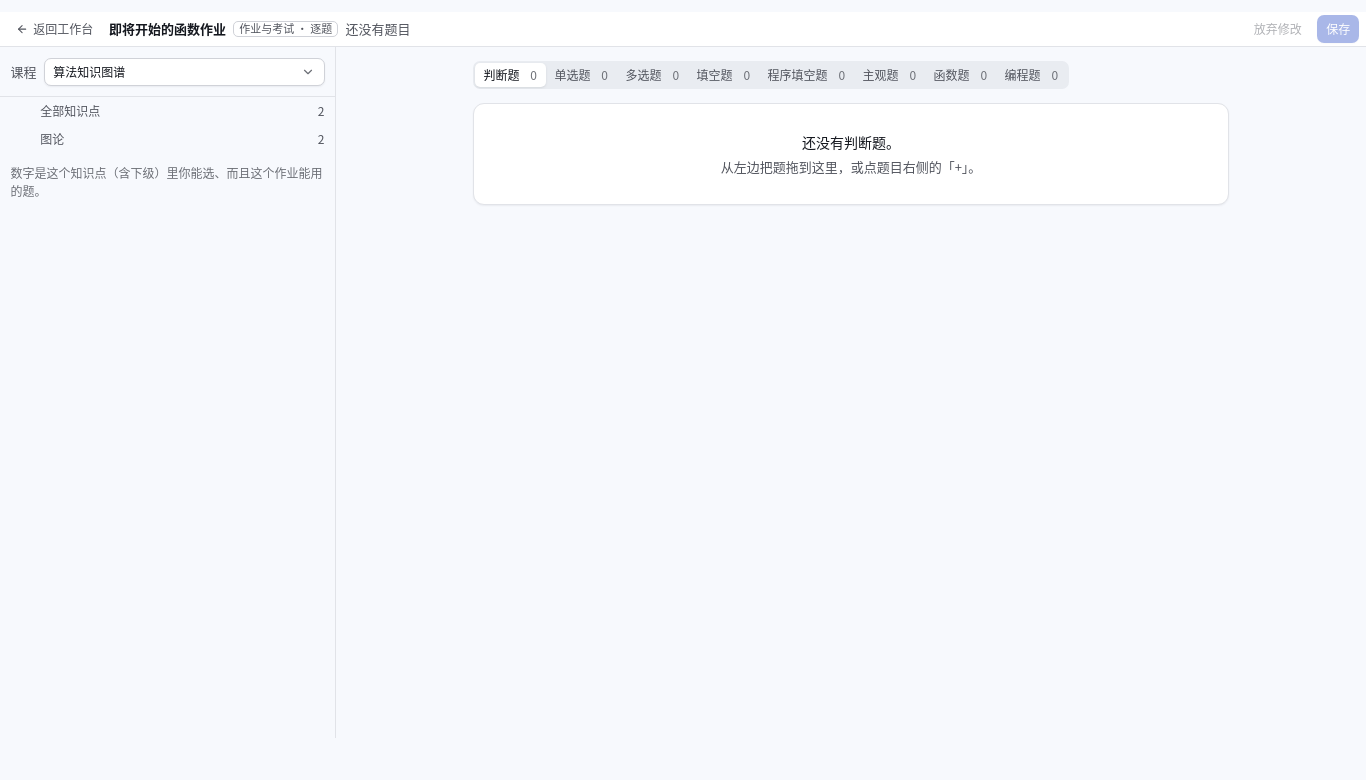
Test: teach compose page › reads the legacy snapshot before posting and clears the change count
Click the button "图论": (52, 138) [32, 125, 314, 153]
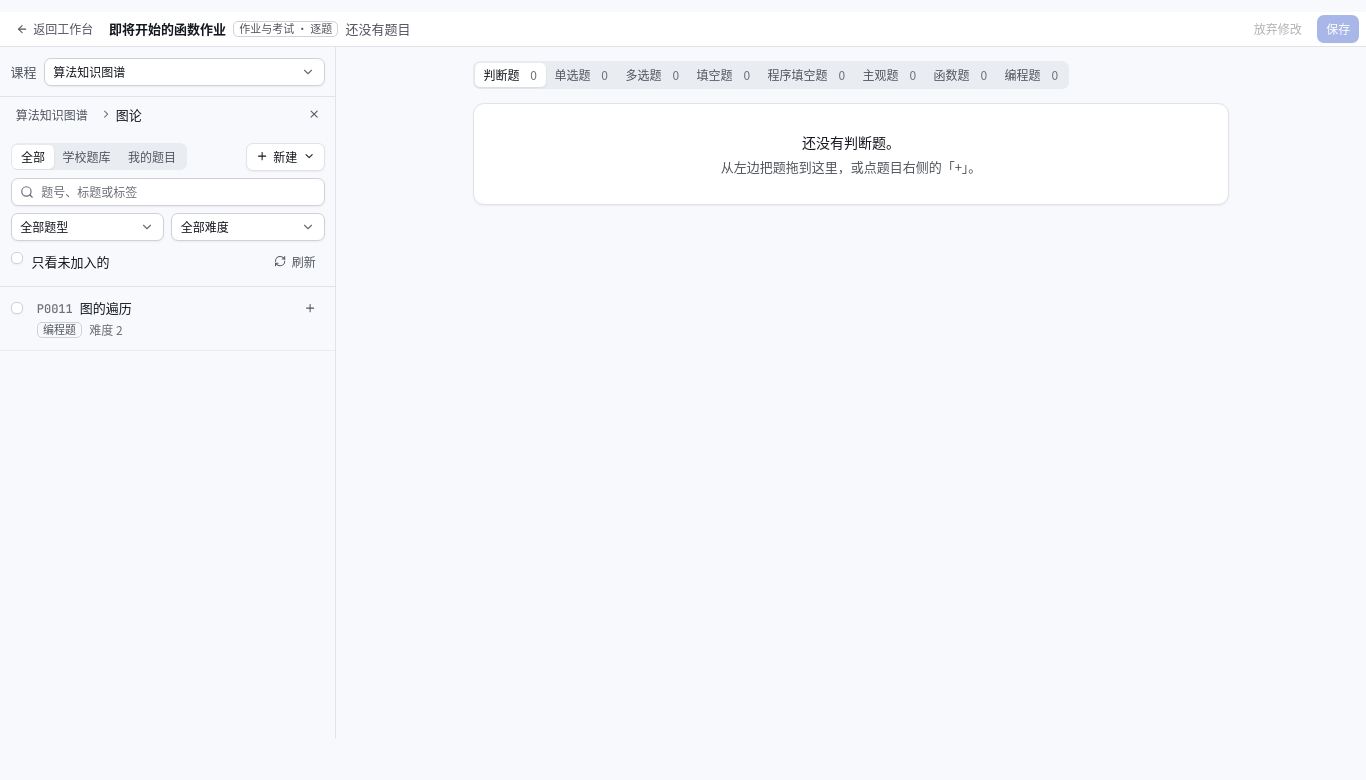
Click the button named "加入 P0011": (310, 308) [296, 294, 324, 322]
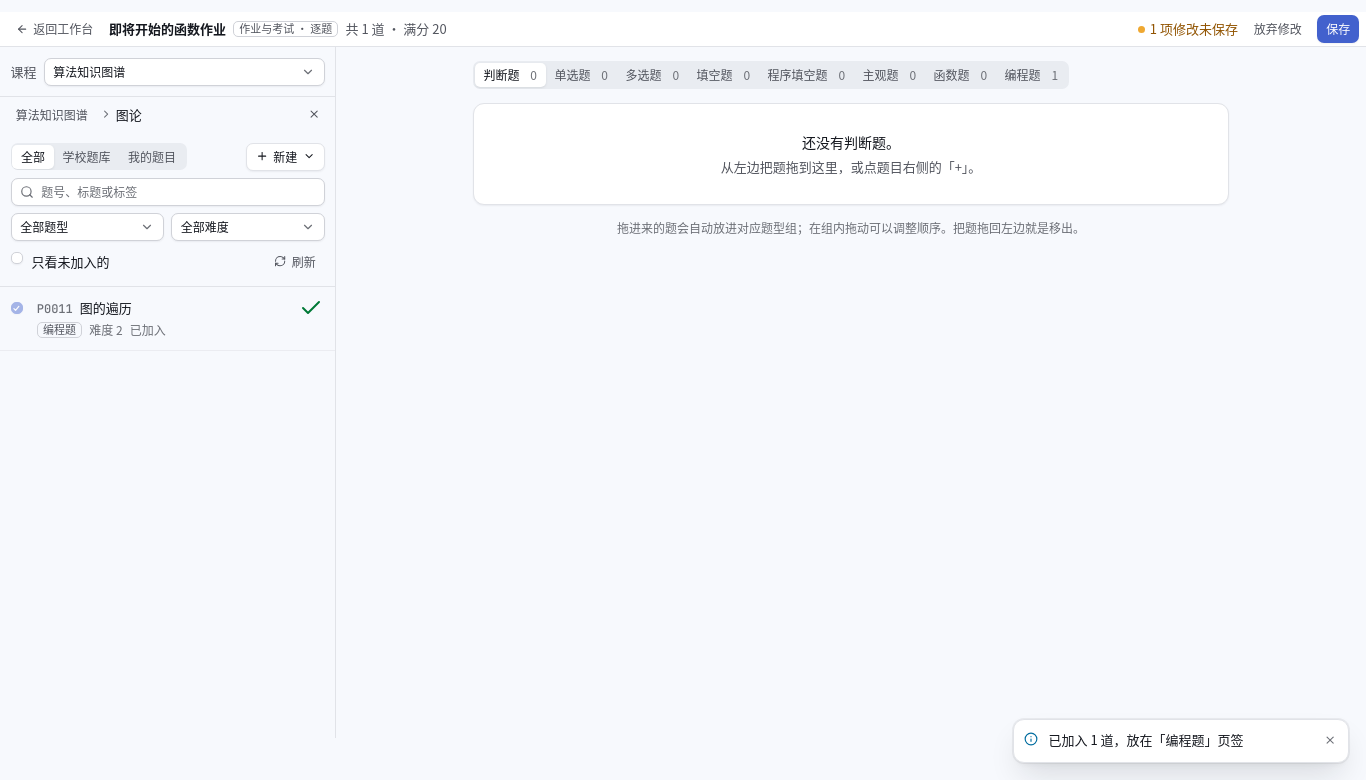
Check: the element showing "1 项修改未保存" is shown, box [1138, 19, 1238, 39]
Check: the button "保存" is enabled
Click the button "保存": (1338, 29) [1318, 15, 1359, 43]
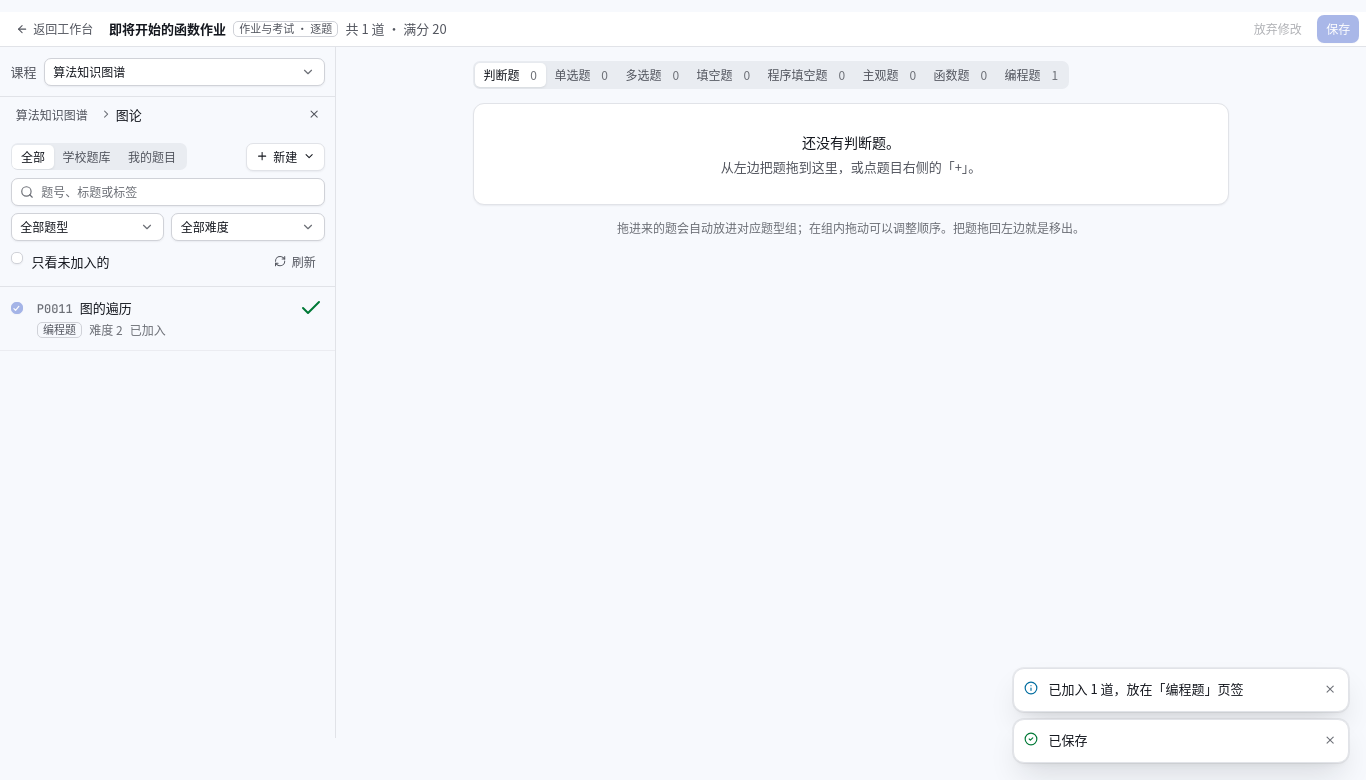
Check: the text "已保存" is shown, box [1048, 730, 1088, 749]
